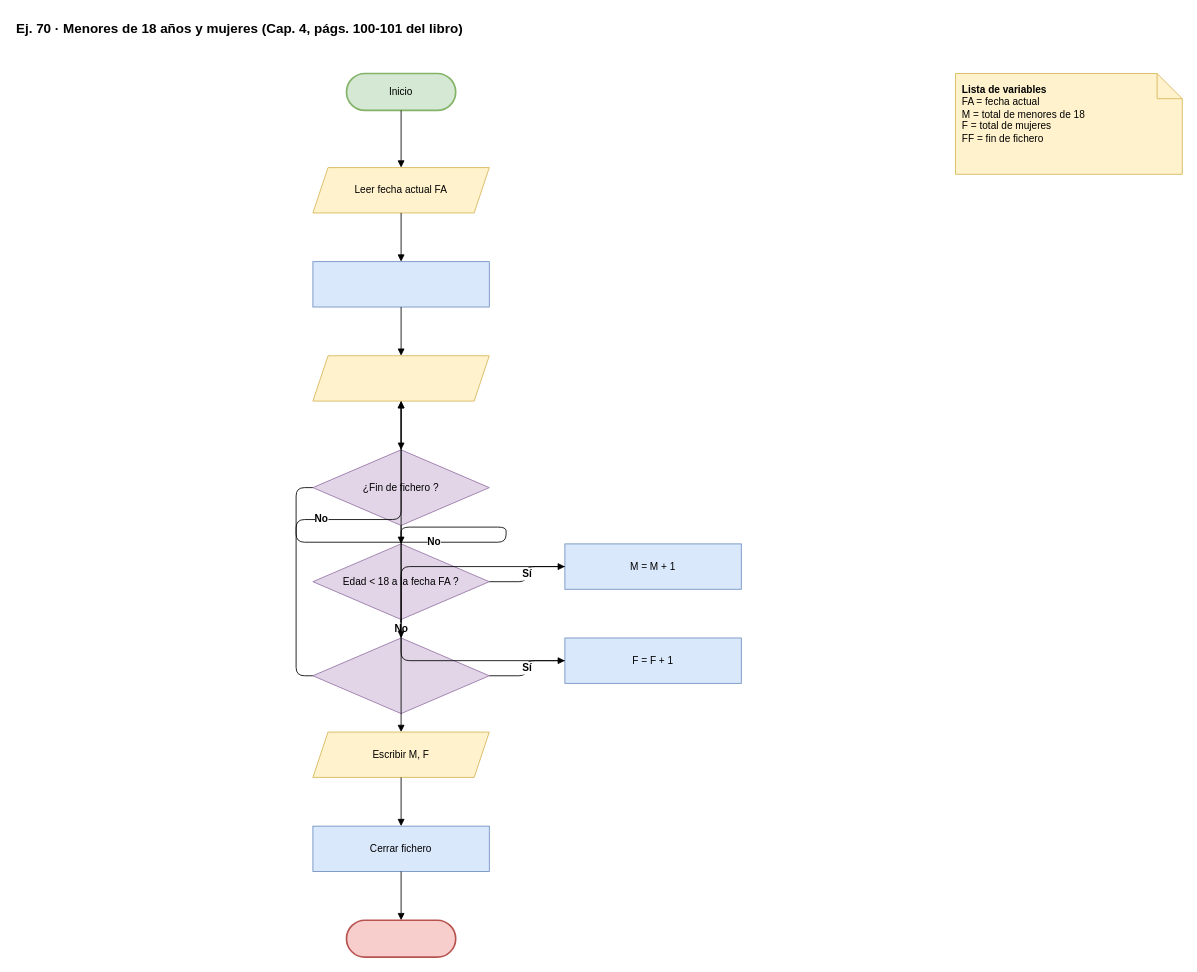
Image size: 1197x972. Some labels were removed from this diagram. The centre of each missing label's shape, as x and y in pixels:
"Fin" belongs at [400,938].
"Leer registro" belongs at [400,378].
"M = 0 ; F = 0 ; Abrir fichero" belongs at [400,284].
"Sexo = mujer ?" belongs at [400,675].
